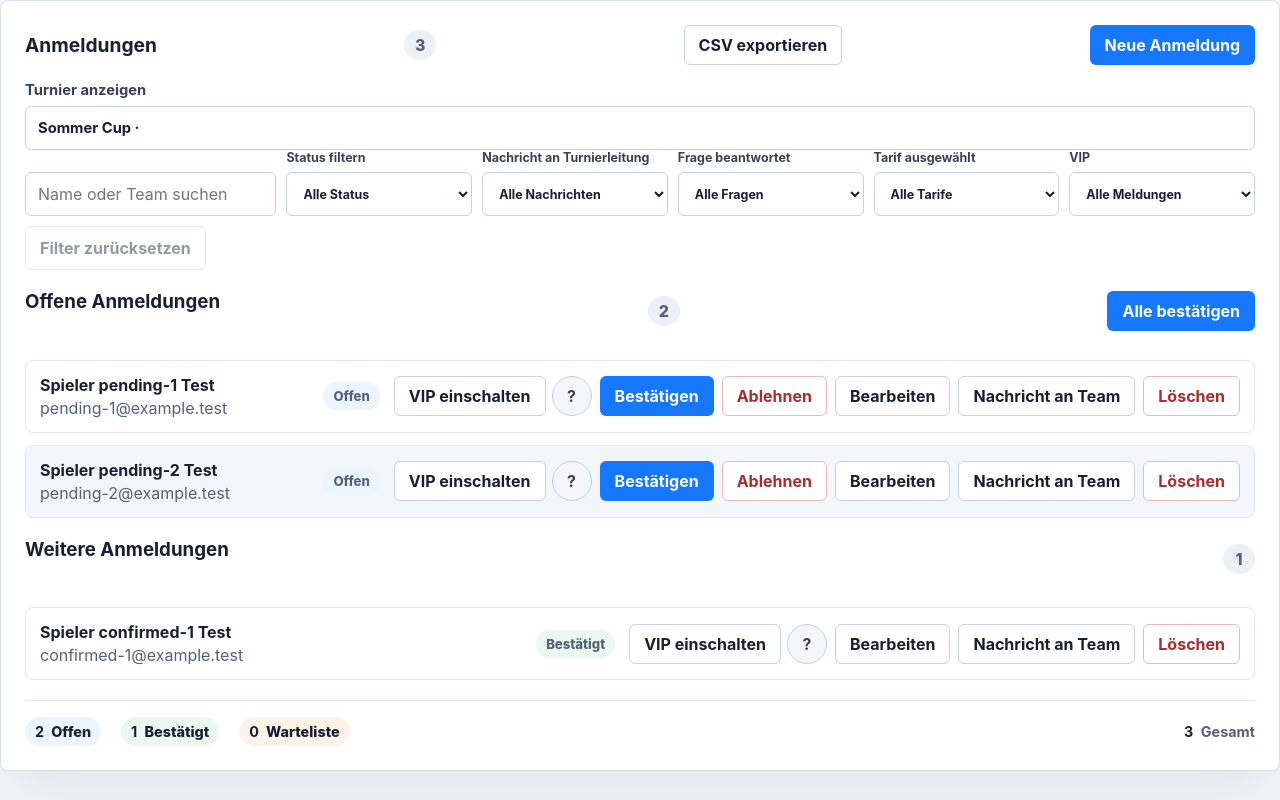
Anmeldungsverwaltung: Freigabe und Storno durch die Turnierleitung › bestätigt alle offenen Anmeldungen, ohne bereits bestätigte zu verändern
Click the button "Alle bestätigen".
click(1181, 311)  # box [1108,291,1255,331]
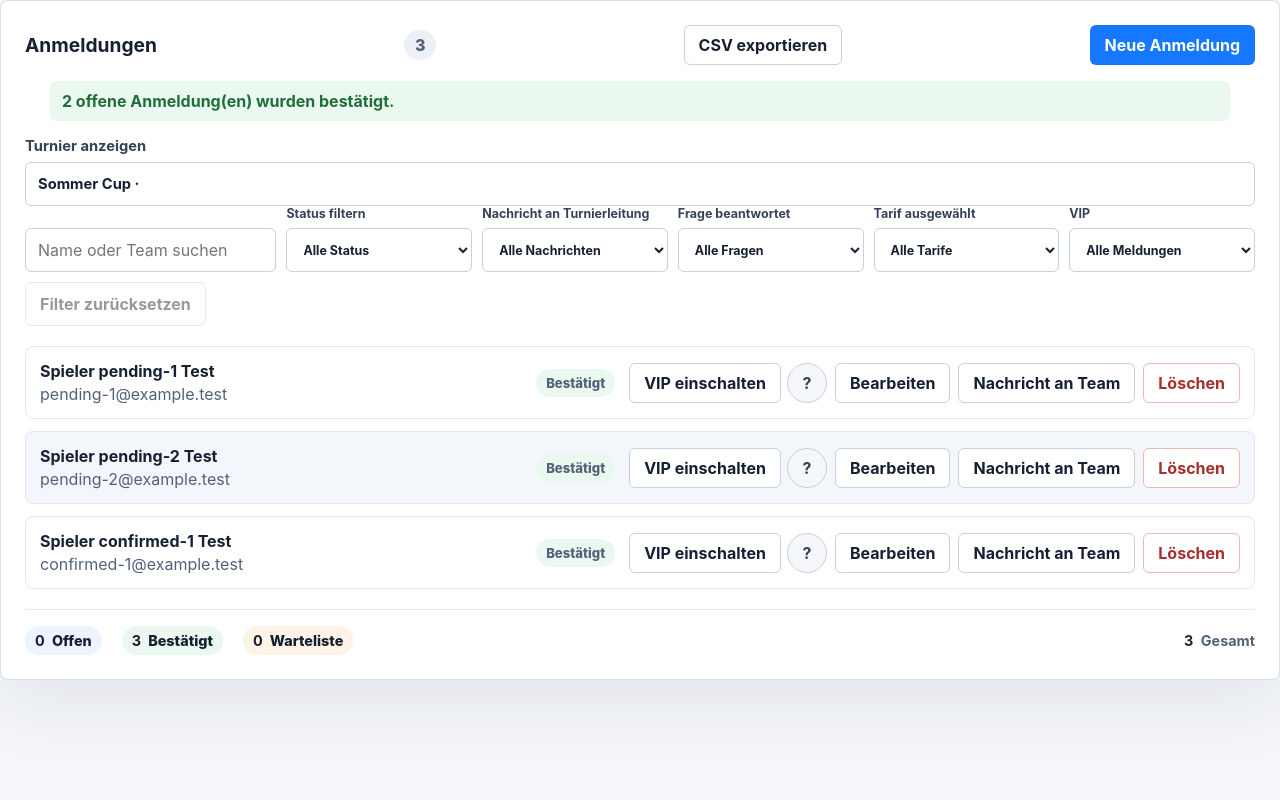
Check: the text "2 offene Anmeldung(en) wurden bestätigt." is shown, box [50,81,1230,121]
